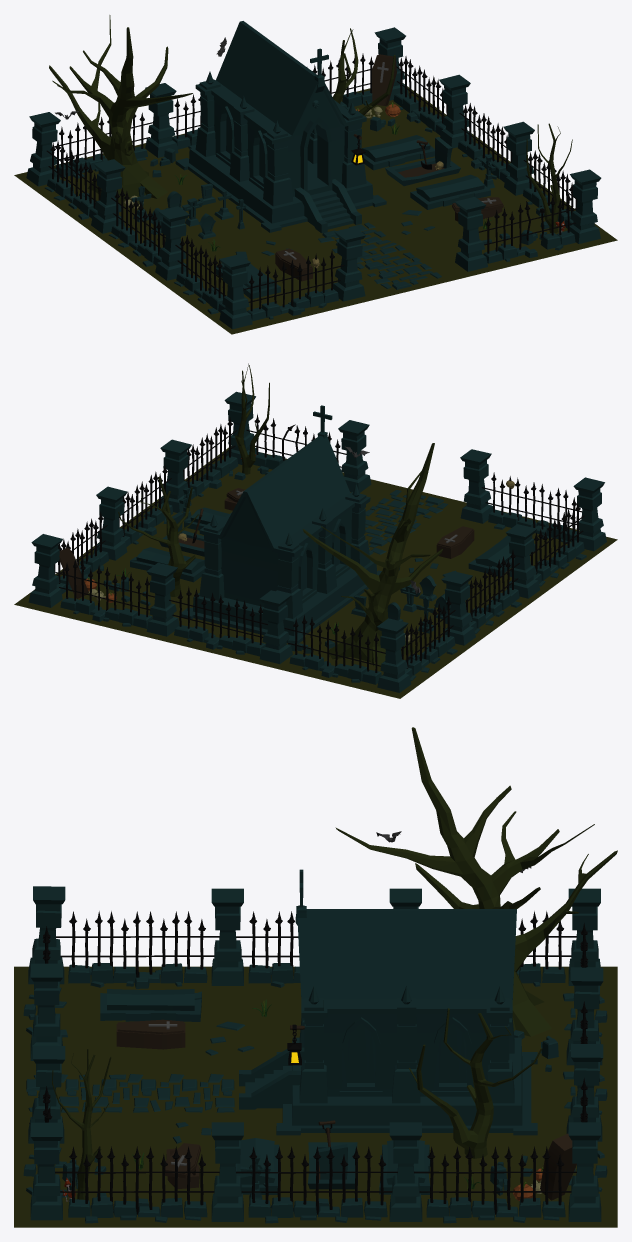
File: low_poly_graveyard.glb
3 renders of one model, top to bottom at view 1: azimuth 30°, elevation 25°; view 2: azimuth 150°, elevation 25°; view 3: azimuth 270°, elevation 25°, orthographic. The views are drawn at different scales.
Visible parts, largest first — view 1: Plane001, Crypt, DeadTree, Column (×2), FenceSection, Tiles001, FenceSection002, FenceSection017, FenceSection009, FenceSection018, FenceSection010, FenceSection019 (+22 smaller); view 2: Crypt, Plane001, DeadTree, Column (×2), FenceSection015, FenceSection014, FenceSection013, FenceSection, FenceSection019, FenceSection017, FenceSection018, FenceSection011 (+22 smaller); view 3: Plane001, Crypt, DeadTree, FenceSection009, FenceSection010, FenceSection011, FenceSection019, Tiles001, Column (×2), DeadTree3, Grave_003, Column010 (+17 smaller).
Boxes of the visible parts, box(x1,y1,x2,y2) form: Plane001: box(14, 83, 617, 334); Crypt: box(175, 21, 386, 233); DeadTree: box(49, 15, 192, 203); Column (×2): box(219, 227, 365, 329); FenceSection: box(243, 250, 344, 321); Tiles001: box(318, 222, 441, 289); FenceSection002: box(478, 192, 579, 263); FenceSection017: box(44, 140, 101, 219); FenceSection009: box(393, 56, 448, 135); FenceSection018: box(108, 187, 165, 266); FenceSection010: box(458, 103, 512, 182); FenceSection019: box(174, 235, 227, 314); Crypt: box(181, 405, 381, 644); Plane001: box(14, 446, 617, 698); DeadTree: box(303, 443, 442, 666); Column (×2): box(460, 449, 606, 551); FenceSection015: box(284, 615, 385, 684); FenceSection014: box(169, 586, 267, 656); FenceSection013: box(55, 559, 154, 628); FenceSection: box(481, 472, 581, 543); FenceSection019: box(529, 502, 586, 586); FenceSection017: box(401, 596, 457, 680); FenceSection018: box(465, 550, 521, 633); FenceSection011: box(183, 417, 238, 499); Plane001: box(14, 966, 617, 1227); Crypt: box(239, 869, 537, 1135); DeadTree: box(335, 727, 617, 1036); FenceSection009: box(414, 1146, 576, 1223); FenceSection010: box(236, 1146, 397, 1223); FenceSection011: box(55, 1146, 219, 1223); FenceSection019: box(56, 911, 219, 988); Tiles001: box(26, 1073, 234, 1112); Column (×2): box(28, 886, 65, 1060); DeadTree3: box(409, 1008, 542, 1158); Grave_003: box(100, 989, 201, 1021); Column010: box(568, 1122, 601, 1221).
Size of the model in its own units: 10.46 by 4.97 by 10.22.
